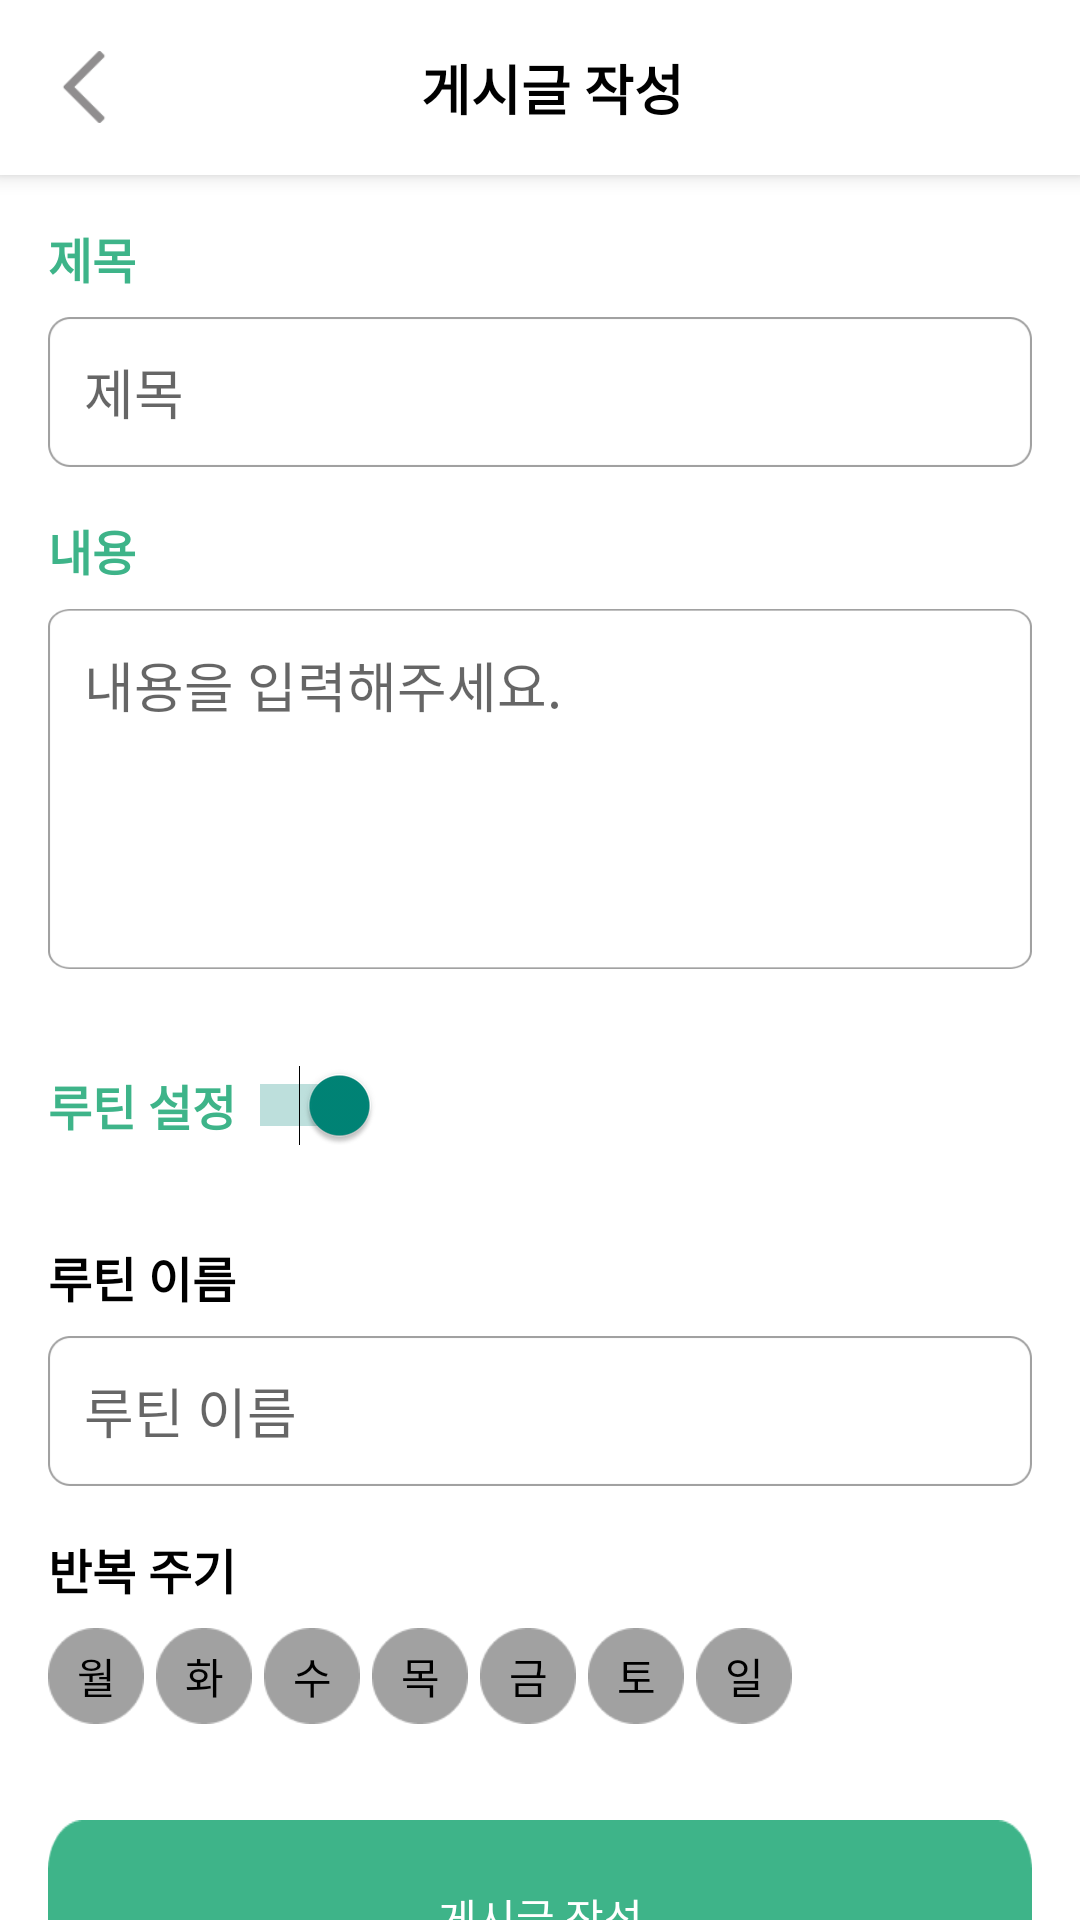

Where to tap for icons on this 1080x1920 app screen, as (x,y):
뒤로가기: (84,87)
